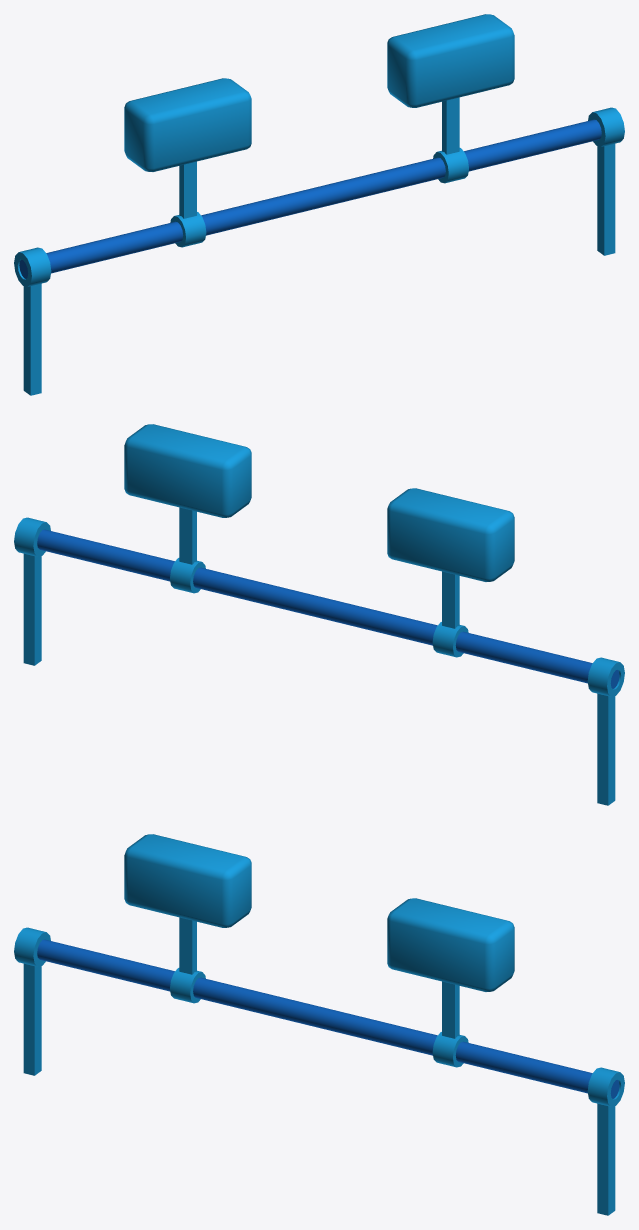
File: barrier_blue.fbx
3 views of the same model, one above another, from view 1: azimuth 30°, elevation 25°; view 2: azimuth 150°, elevation 25°; view 3: azimuth 330°, elevation 25° (orthographic).
Visible parts, largest first — view 1: barrier_blue, barrier_2_blue, barrier_1_blue; view 2: barrier_blue, barrier_2_blue, barrier_1_blue; view 3: barrier_blue, barrier_1_blue, barrier_2_blue.
Part boxes in pixels (x1,y1,x2,y2): barrier_blue: [14, 107, 624, 395]; barrier_2_blue: [387, 14, 514, 183]; barrier_1_blue: [124, 78, 251, 247]; barrier_blue: [14, 517, 624, 805]; barrier_2_blue: [124, 424, 251, 593]; barrier_1_blue: [387, 488, 514, 657]; barrier_blue: [14, 927, 624, 1215]; barrier_1_blue: [124, 834, 251, 1003]; barrier_2_blue: [387, 898, 514, 1067].
Bounding box in the file's own units: 1.96 × 0.8149 × 0.1508.
